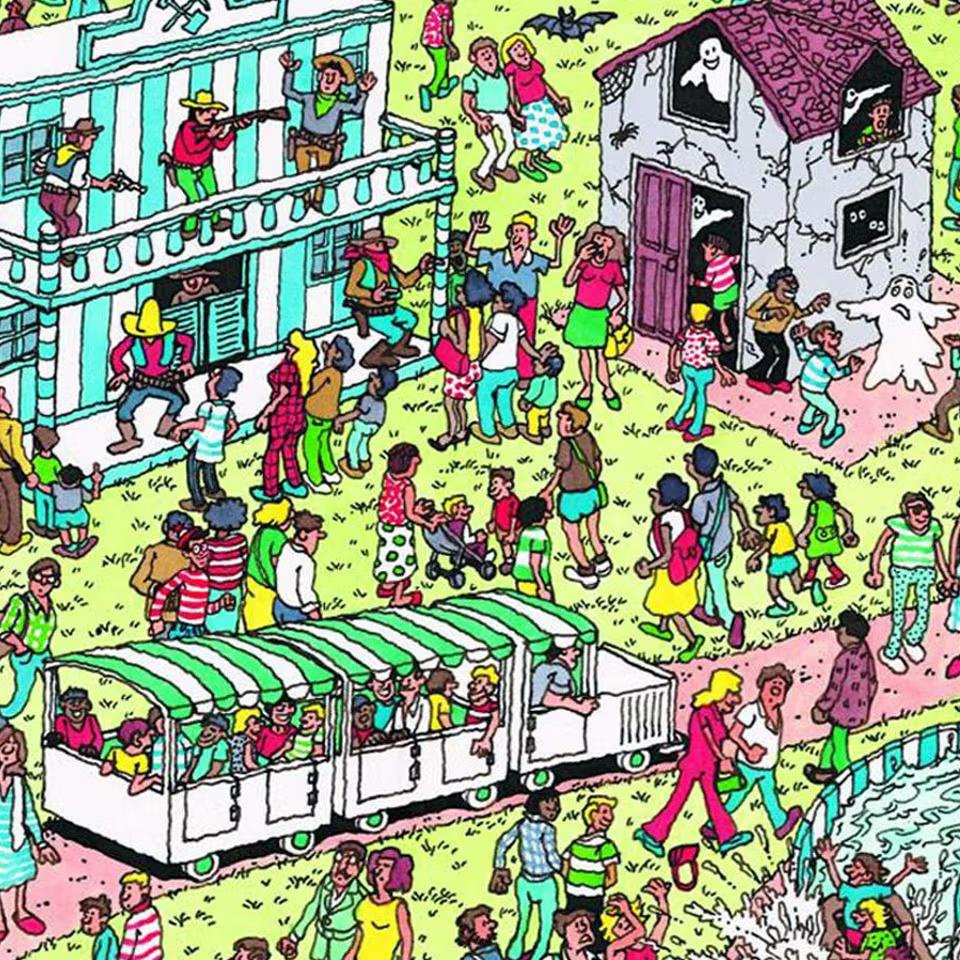waldo: (151, 526, 237, 635)
